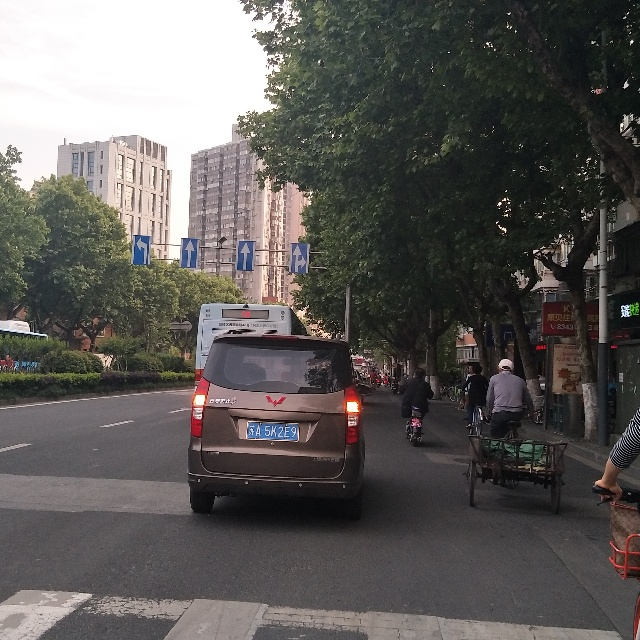left: (132, 235, 150, 265)
straight: (235, 240, 254, 271), (180, 238, 199, 268)
